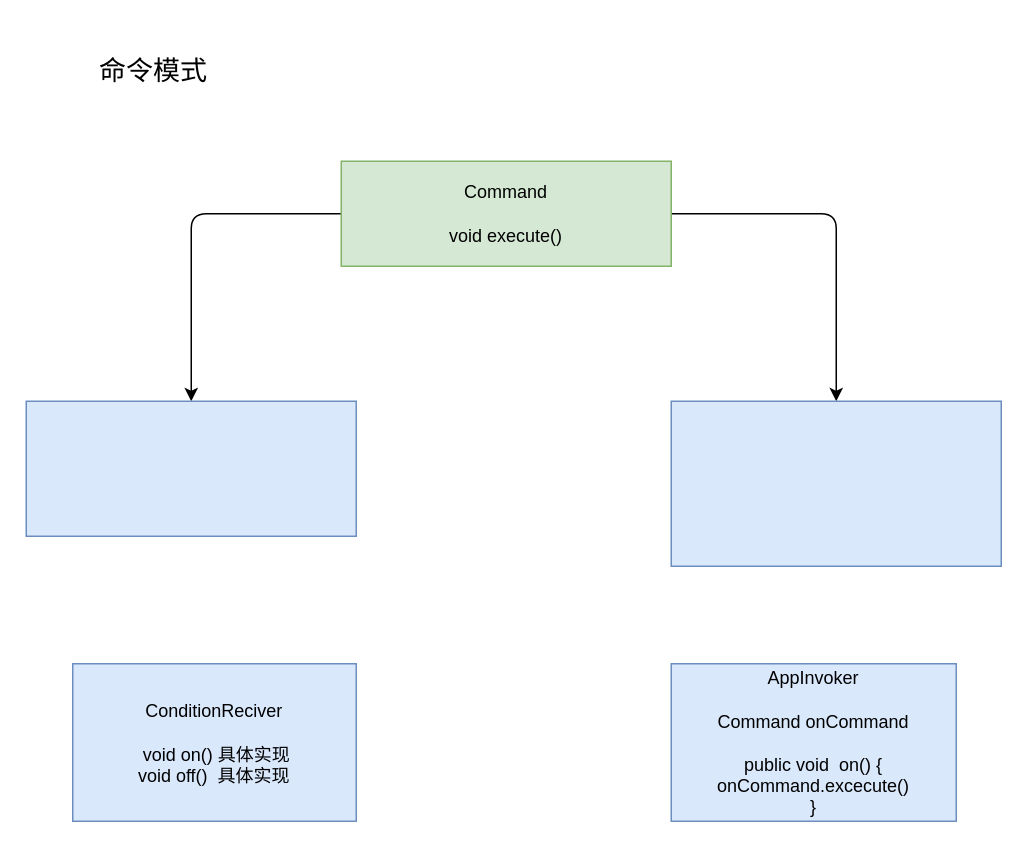
This 1028x848 diagram has some shape labels left out. The shapes that lost their labels are listed below. From the top down, each one's centre as x and y in pixels, then its label:
(x=190, y=468): OnCommand ConditionReceiver receiver; receiver.on(){ receiver.on() }
(x=835, y=483): OffCommand ConditionReceiver receiver; receiver.off(){ reciver.off() }
